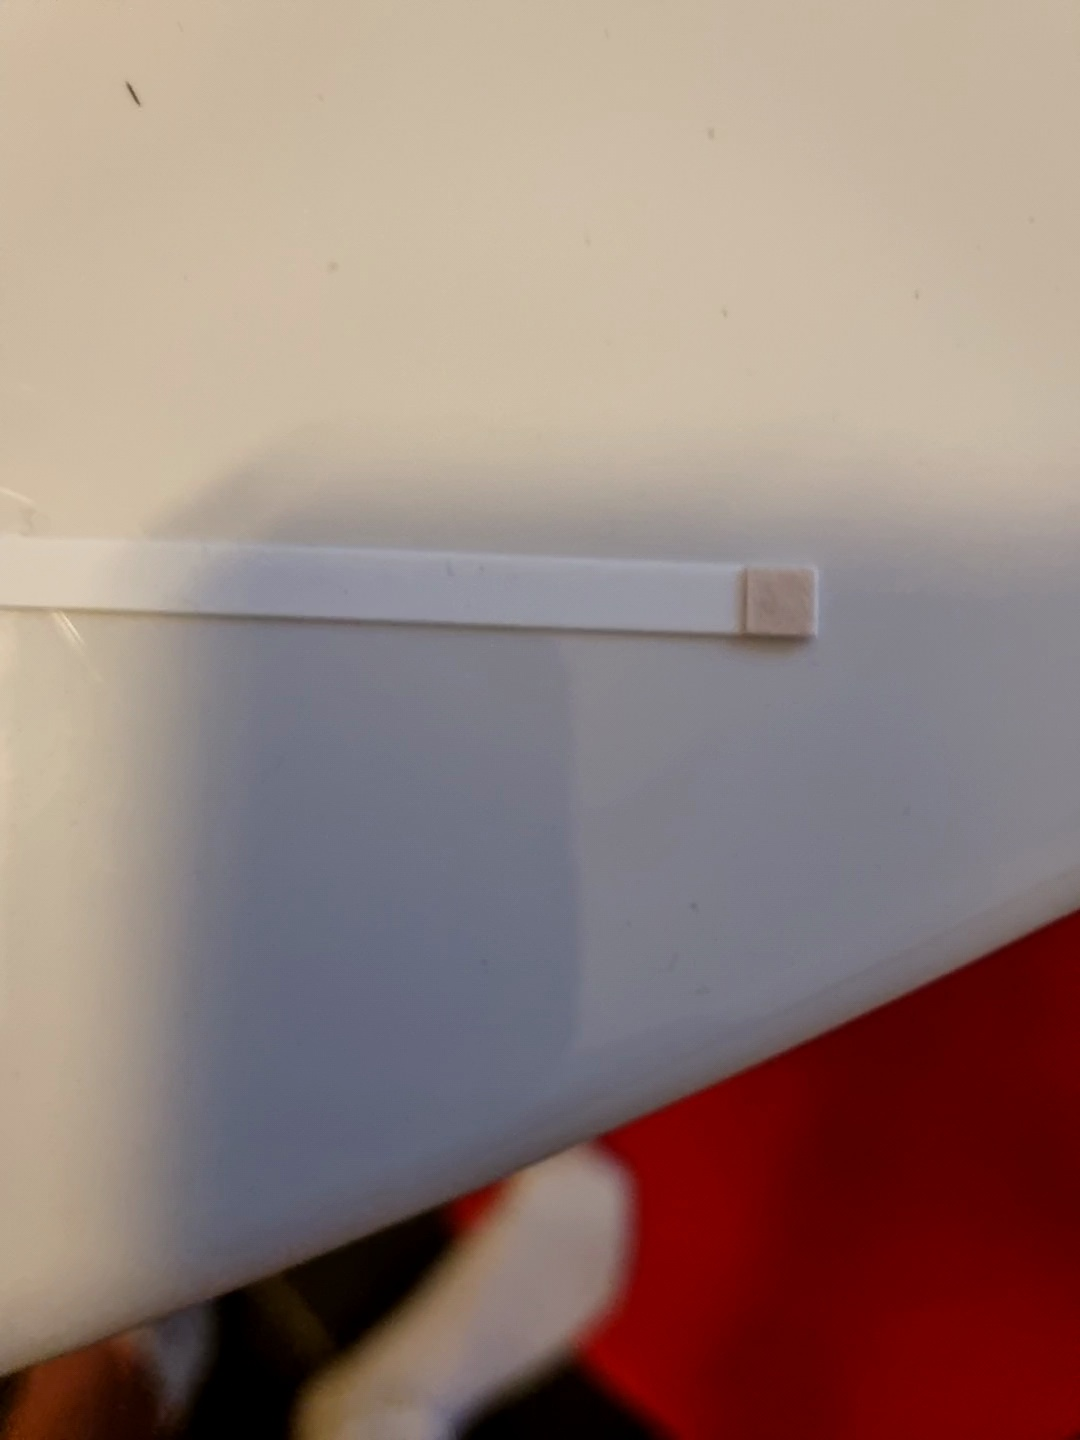keto-tip: (736, 557, 826, 645)
